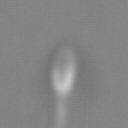normal: (50, 94, 79, 128)
